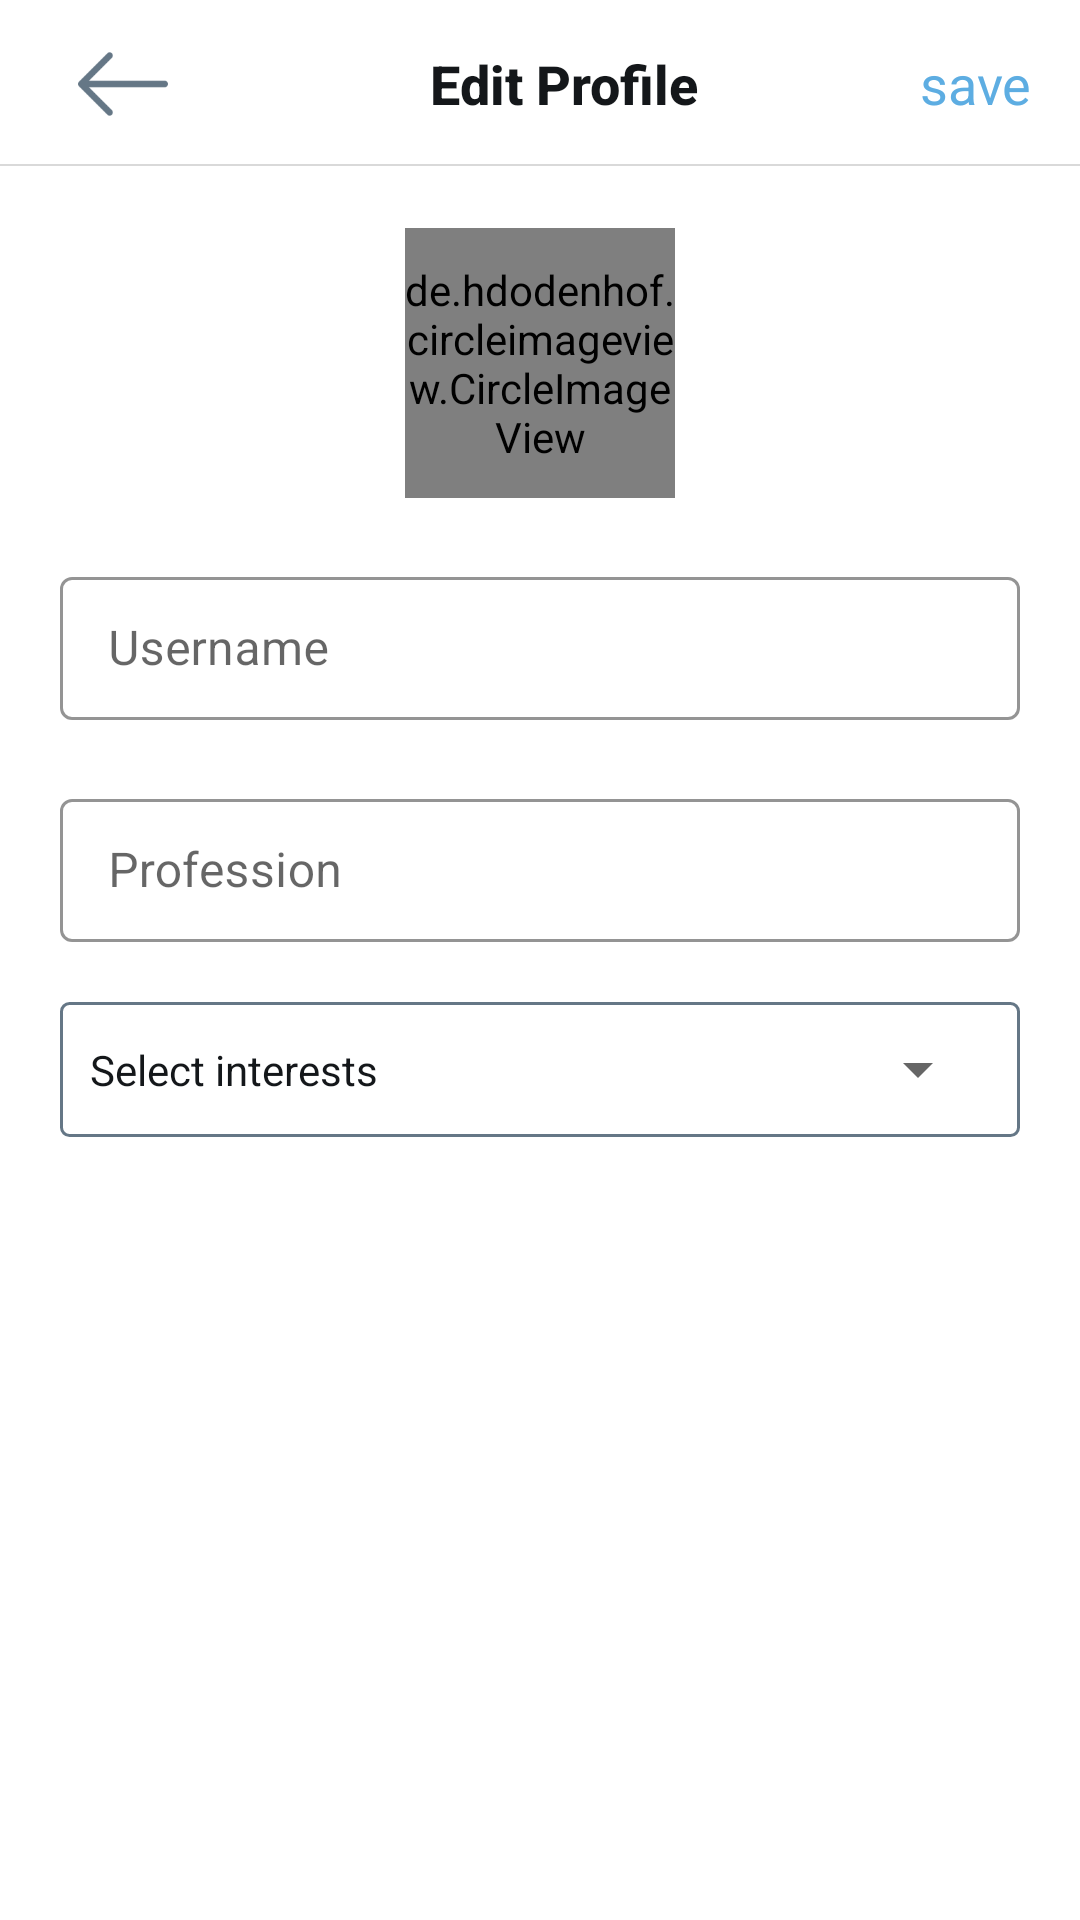

Named icons in this screenshot (1080 x 1920) and their centers, (x=x, y=y):
back: (x=123, y=84)
